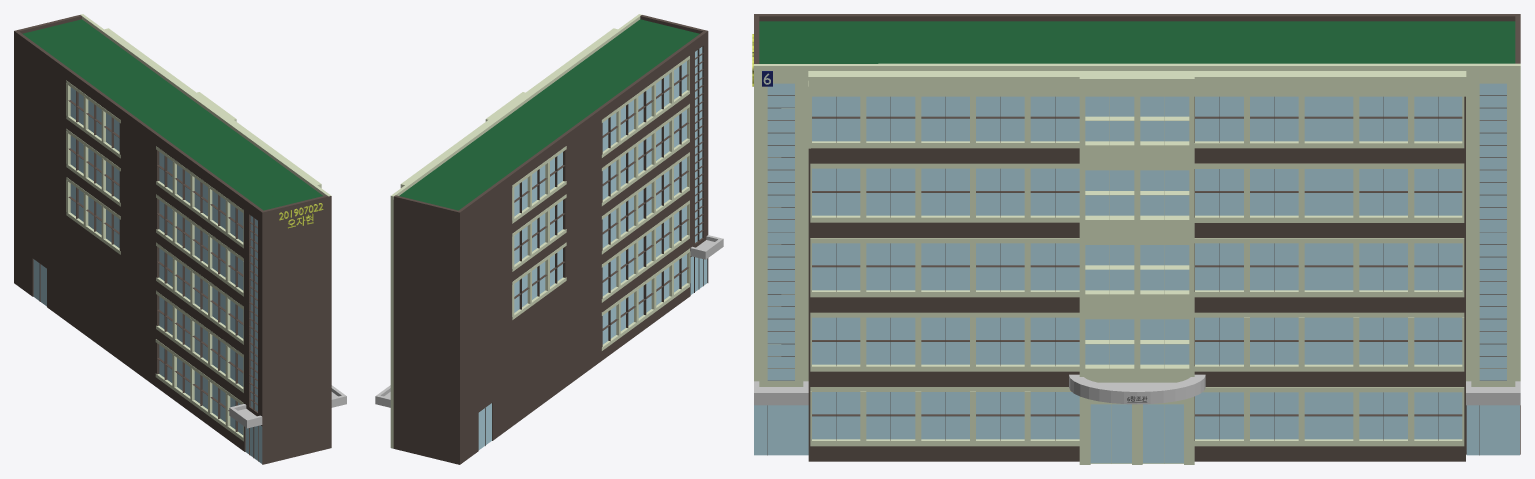
File: Changjogwan.glb
The picture shows the model from 3 angles, left to right: view 1: azimuth 30°, elevation 25°; view 2: azimuth 150°, elevation 25°; view 3: azimuth 270°, elevation 25°; orthographic projection. The views are drawn at different scales.
Visible parts, largest first — view 1: left-side-building.001; view 2: left-side-building.001; view 3: left-side-building.001.
Part boxes in pixels (<box>): left-side-building.001: <box>14,14,346,464</box>; left-side-building.001: <box>375,14,723,464</box>; left-side-building.001: <box>752,14,1520,464</box>.
Bounding box in the file's own units: 75.7 × 157 × 281.
